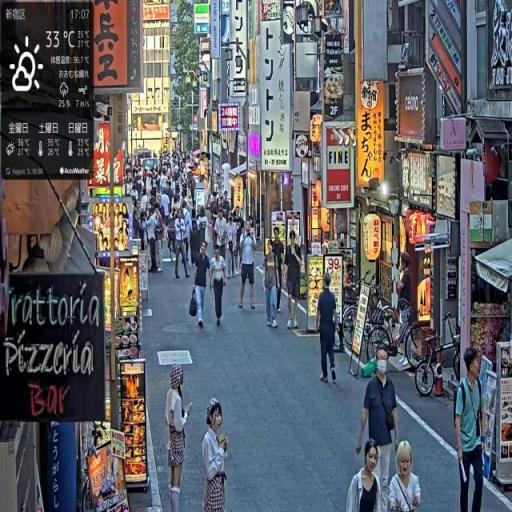person: (357, 350, 399, 511), (455, 343, 488, 512), (164, 364, 192, 510), (202, 398, 230, 512), (347, 439, 383, 512), (318, 276, 341, 388), (388, 440, 423, 512), (284, 230, 305, 334), (237, 219, 259, 313), (192, 239, 213, 333), (263, 237, 280, 332), (211, 244, 228, 330), (174, 208, 192, 281)
